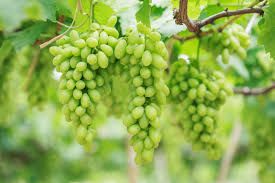grapes: (50, 28, 119, 146), (174, 54, 239, 163), (125, 22, 169, 163)
